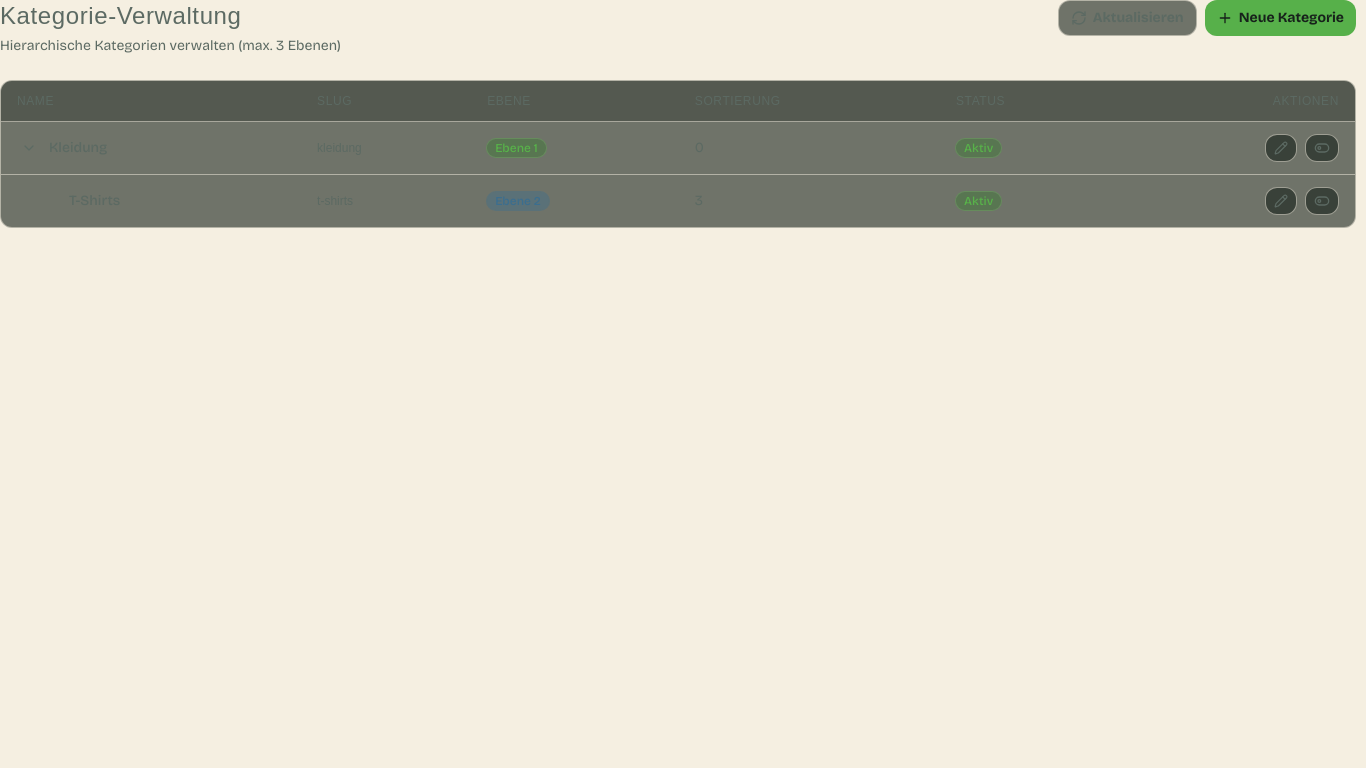
Test case: AdminCategories – fehlender Flat-Eintrag (#226) › blocks the save when the flat entry disappears while the modal is open
Click the button named "Bearbeiten" in the row of "Ebene 2".
click(1281, 201)  # box x1=1265 y1=187 x2=1297 y2=215
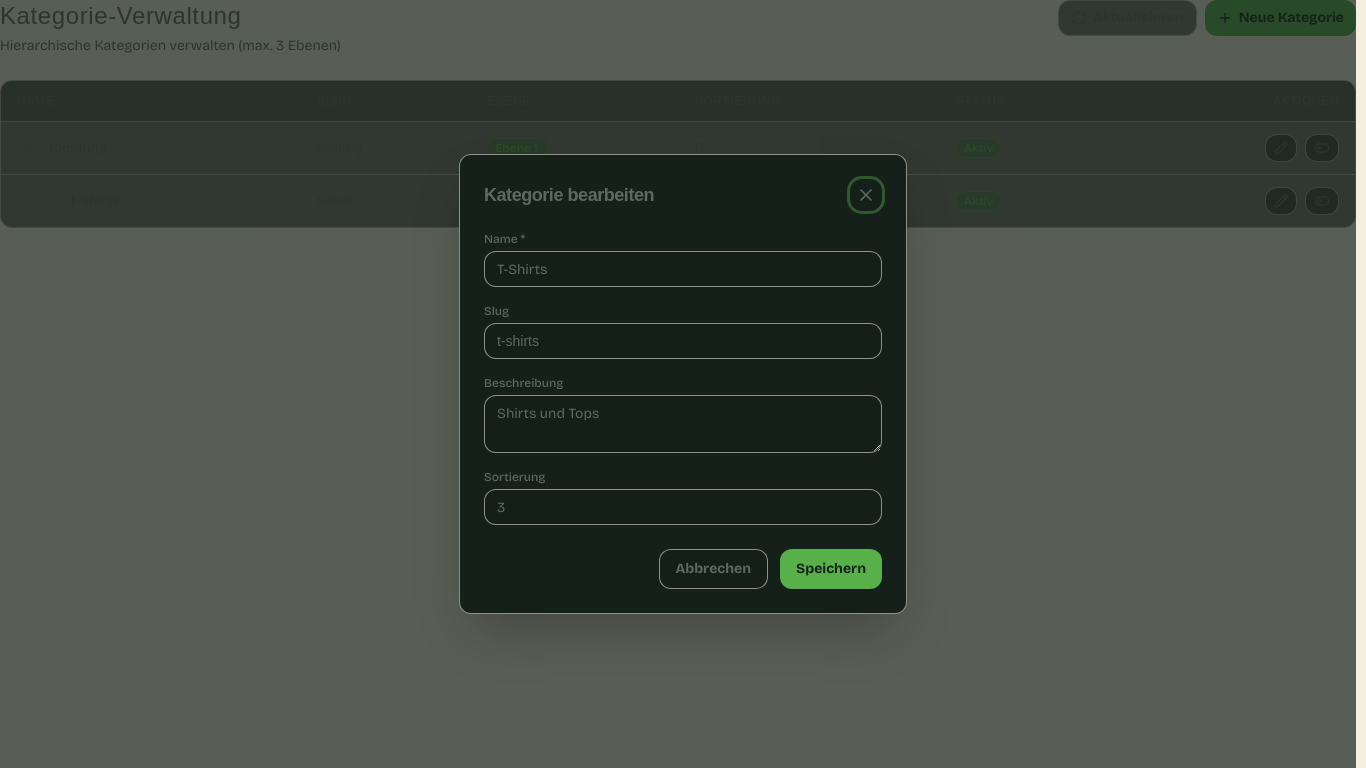
Replace the text in the number field labelled "Sortierung" with "4" at (683, 507), box x1=484 y1=489 x2=882 y2=525
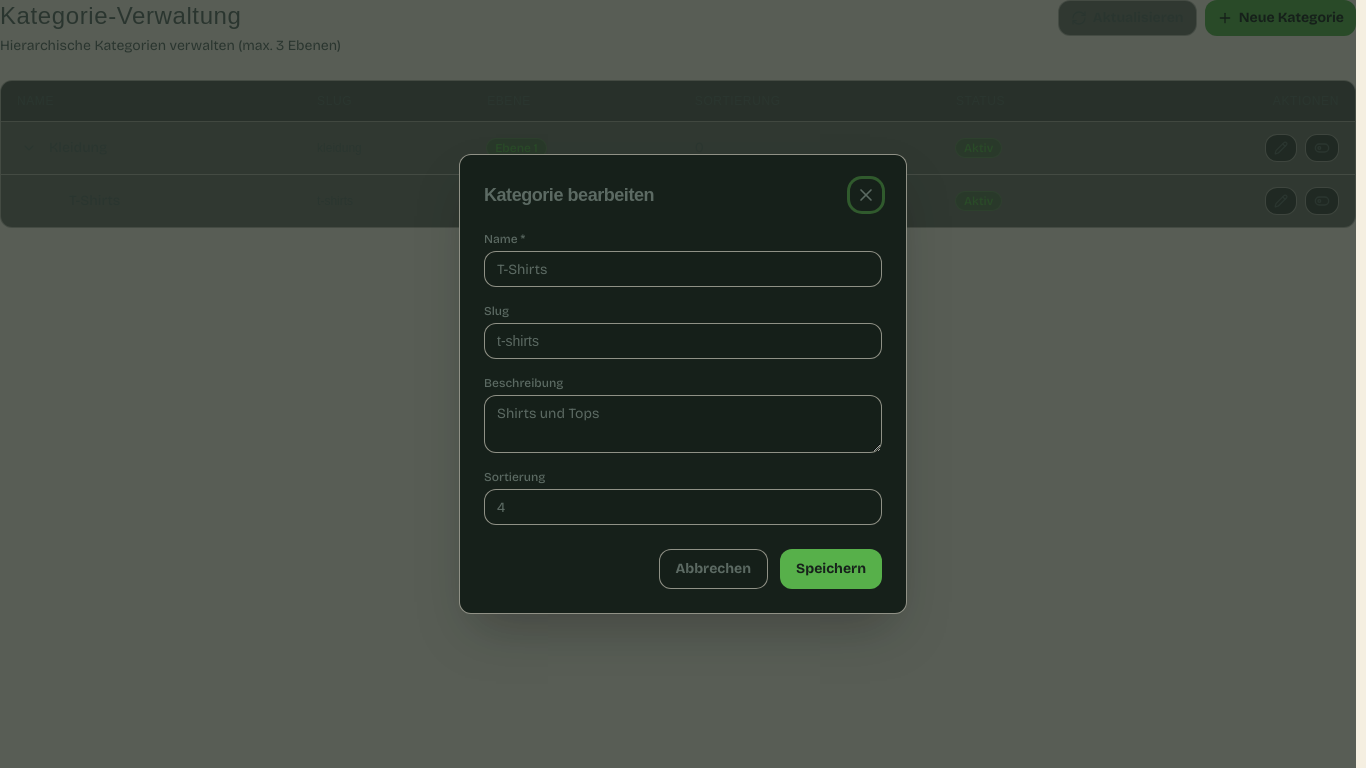
Click the button "Speichern".
click(831, 569)  # box x1=780 y1=549 x2=882 y2=589
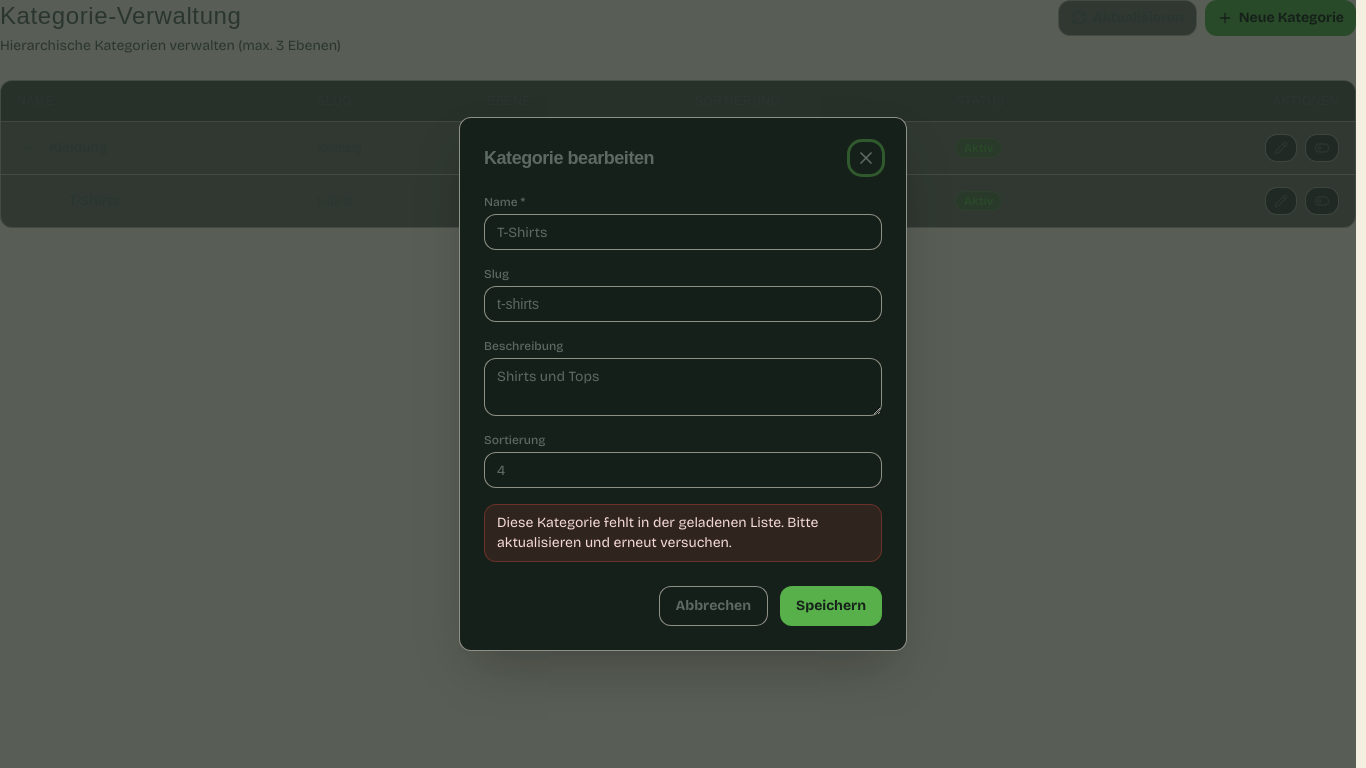
Check: the message shows "Diese Kategorie fehlt in der geladenen Liste. Bitte aktualisieren und erneut versuchen.", box x1=497 y1=514 x2=818 y2=551
